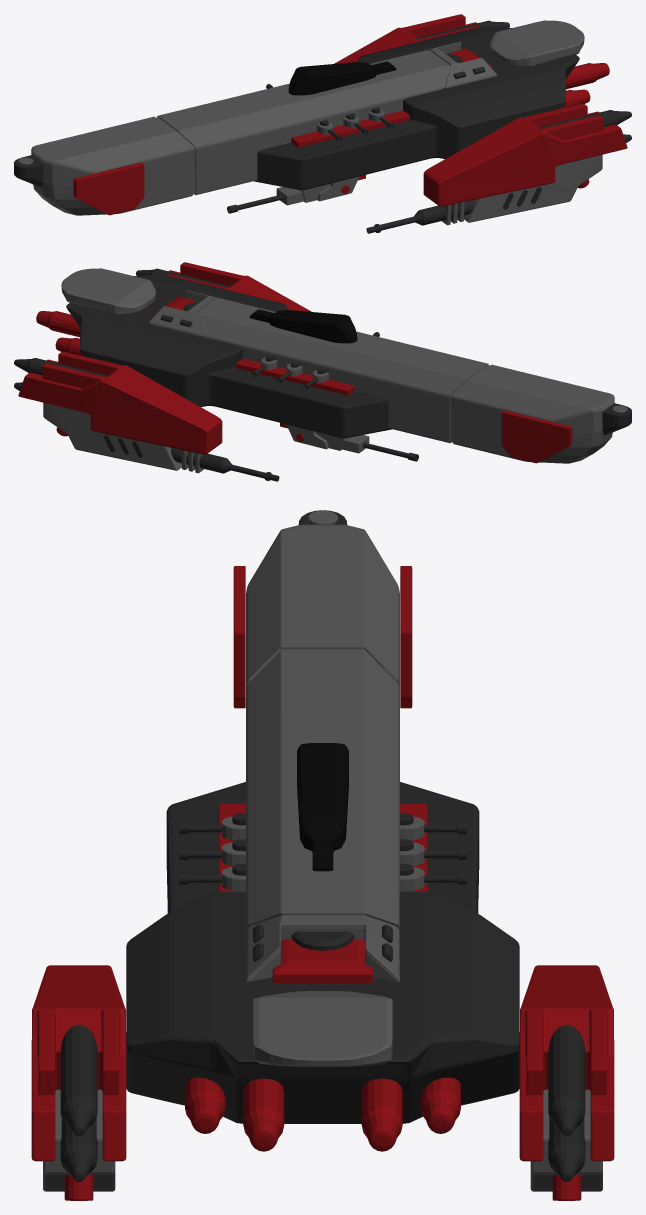
File: fga_destroyer1.glb
The picture shows the model from 3 angles, top to bottom: view 1: azimuth 30°, elevation 25°; view 2: azimuth 150°, elevation 25°; view 3: azimuth 270°, elevation 25°; orthographic projection. The views are drawn at different scales.
Parts seen in each view (by area): view 1: Destroyer_1; view 2: Destroyer_1; view 3: Destroyer_1.
Boxes of the visible parts, x1=… form: Destroyer_1: x1=14, y1=14, x2=631, y2=233; Destroyer_1: x1=14, y1=262, x2=631, y2=481; Destroyer_1: x1=31, y1=510, x2=614, y2=1200.
Bounding box in the file's own units: 9100 × 1925 × 3976.
Materials: 1 (1 with a texture image).
